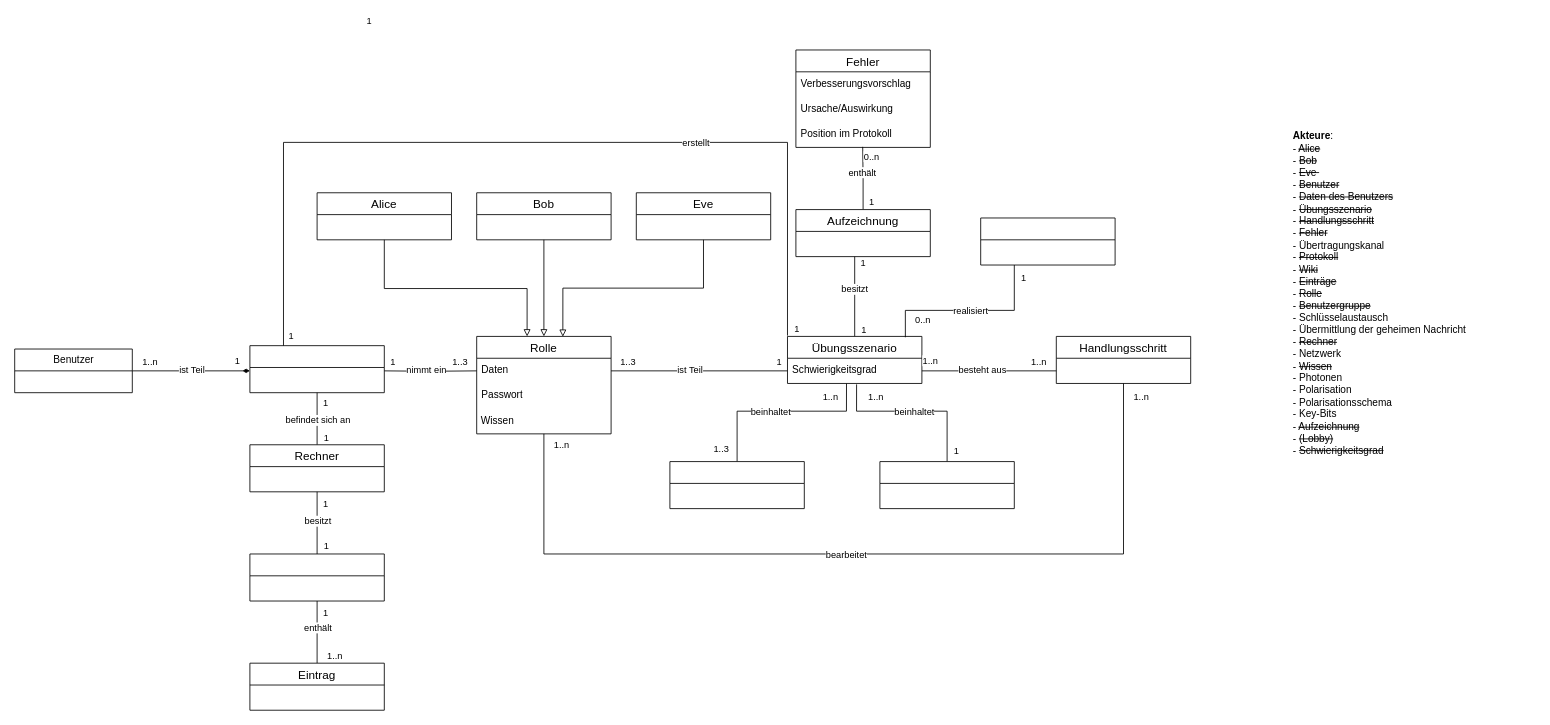
The diagram is 1550 pixels wide and 725 high, and some of its shapes have lost their labels. Here are the shapes that lost their labels. From the top down, the box of each, then its label:
(980, 217, 1115, 265): Protokoll
(249, 345, 384, 393): Benutzergruppe
(669, 461, 804, 509): Phasen
(879, 461, 1014, 509): Ausgangsszenario
(249, 553, 384, 601): Wiki
